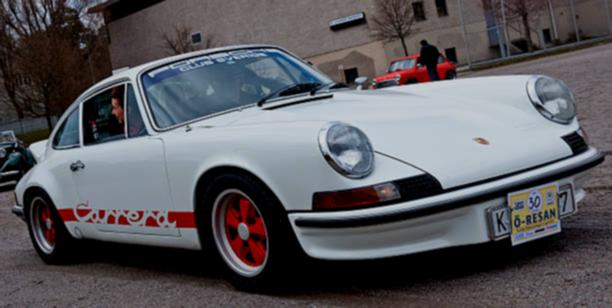porsche: (470, 133, 496, 151)
